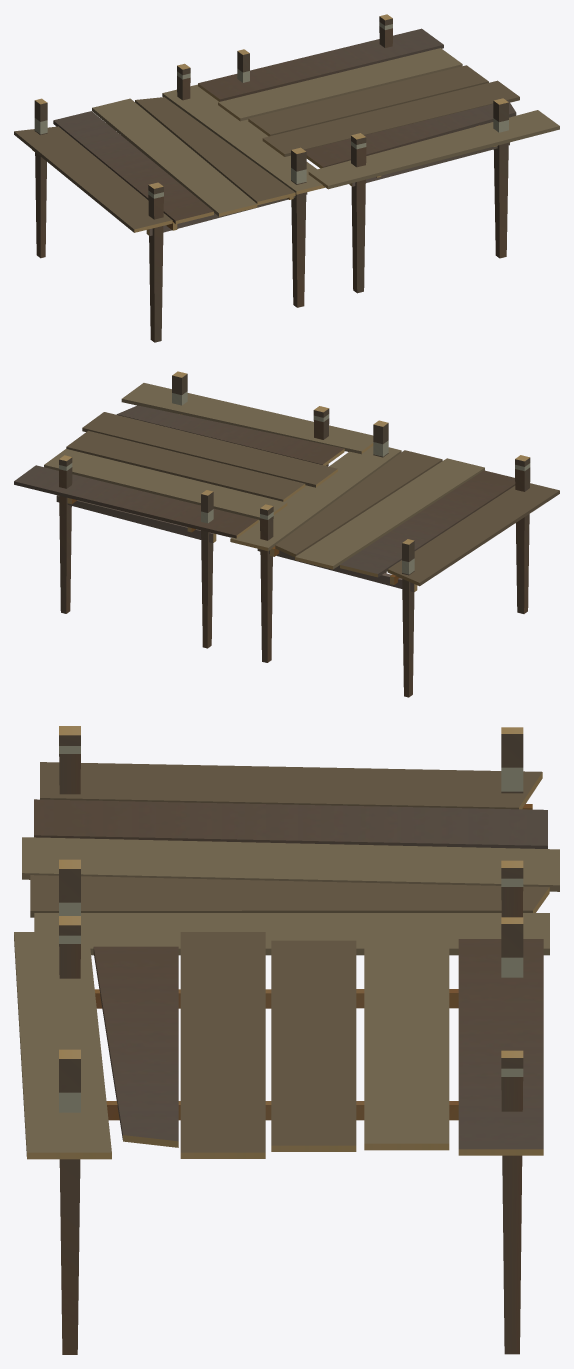
File: Dock_3_LOD1.fbx
3 renders of one model, top to bottom at view 1: azimuth 30°, elevation 25°; view 2: azimuth 150°, elevation 25°; view 3: azimuth 270°, elevation 25°, orthographic. The views are drawn at different scales.
Parts seen in each view (by area): view 1: polySurface9996; view 2: polySurface9996; view 3: polySurface9996.
Boxes of the visible parts, x1=… form: polySurface9996: x1=14, y1=14, x2=559, y2=342; polySurface9996: x1=14, y1=371, x2=559, y2=697; polySurface9996: x1=14, y1=726, x2=559, y2=1354.
Size of the model in its own units: 1071 by 375 by 624.
